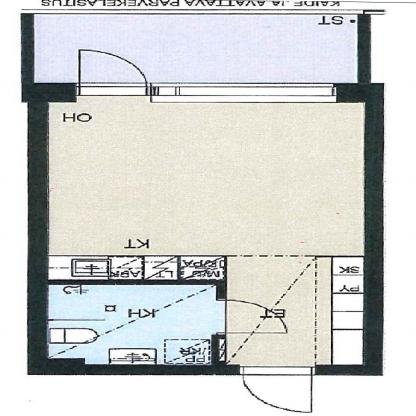door: (238, 364, 324, 416), (76, 50, 152, 96)
window: (152, 82, 333, 100)
zone: (50, 98, 362, 255), (34, 12, 360, 83), (47, 280, 223, 362), (226, 256, 332, 365), (47, 255, 220, 280), (330, 254, 368, 360)
